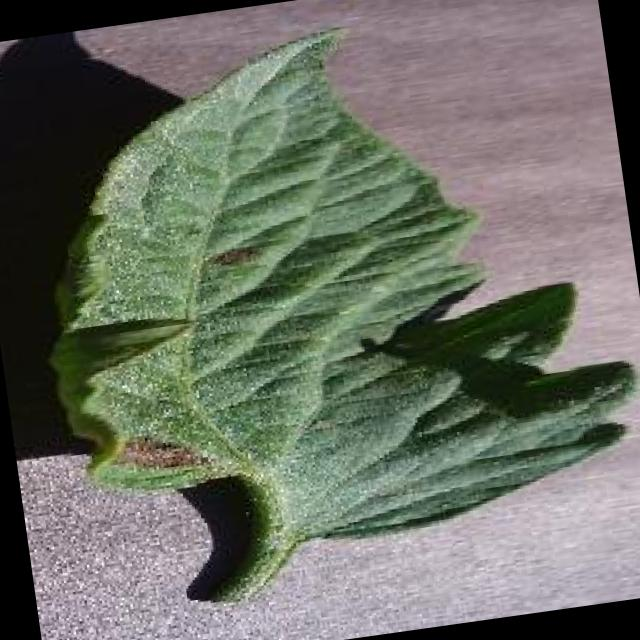Tomato_Early_Blight: (48, 215, 272, 592)
